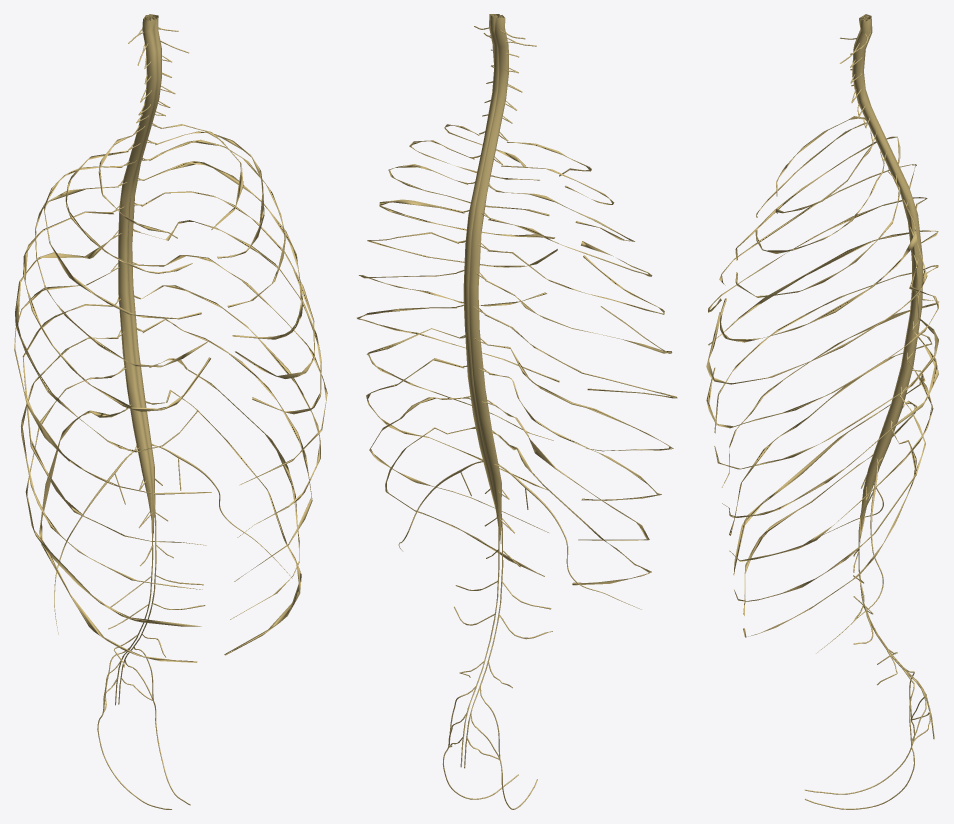
The model's file is nervous-trunk-mobile.glb.
3 renders of one model, left to right at view 1: azimuth 30°, elevation 25°; view 2: azimuth 150°, elevation 25°; view 3: azimuth 270°, elevation 25°, orthographic. The views are drawn at different scales.
Parts seen in each view (by area): view 1: za.intercostal-nerves-r, za.intercostal-nerves-l, za.white-matter-of-spinal-cord, za.cauda-equina; view 2: za.white-matter-of-spinal-cord, za.intercostal-nerves-l, za.intercostal-nerves-r, za.cauda-equina; view 3: za.intercostal-nerves-l, za.white-matter-of-spinal-cord, za.intercostal-nerves-r, za.cauda-equina, za.pudendal-nerve-l.
Boxes of the visible parts, bbox=[...] form: za.intercostal-nerves-r: bbox=[14, 135, 211, 662]; za.intercostal-nerves-l: bbox=[138, 124, 327, 655]; za.white-matter-of-spinal-cord: bbox=[118, 14, 161, 536]; za.cauda-equina: bbox=[106, 499, 205, 705]; za.white-matter-of-spinal-cord: bbox=[463, 14, 508, 541]; za.intercostal-nerves-l: bbox=[357, 124, 559, 576]; za.intercostal-nerves-r: bbox=[485, 141, 677, 585]; za.cauda-equina: bbox=[451, 514, 552, 768]; za.intercostal-nerves-l: bbox=[706, 143, 938, 637]; za.white-matter-of-spinal-cord: bbox=[852, 14, 923, 542]; za.intercostal-nerves-r: bbox=[708, 116, 939, 615]; za.cauda-equina: bbox=[853, 504, 934, 739]; za.pudendal-nerve-l: bbox=[805, 683, 928, 809].
Size of the model in its own units: 0.2747 by 0.7315 by 0.1972.
